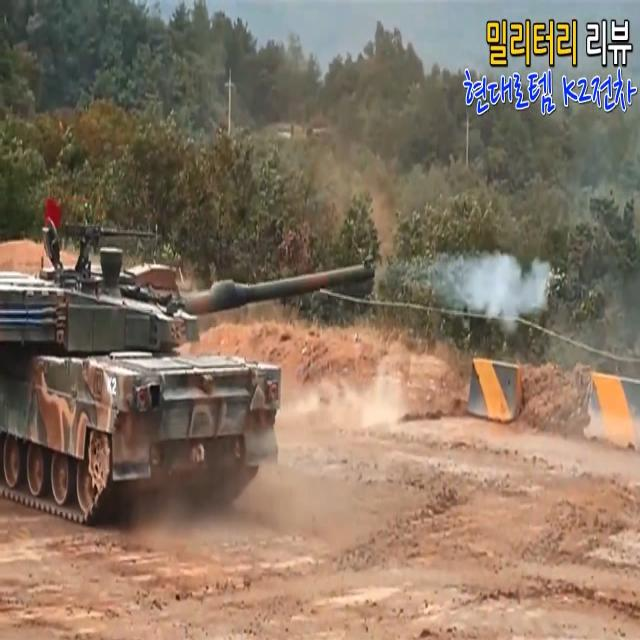korea tank: (1, 220, 377, 526)
